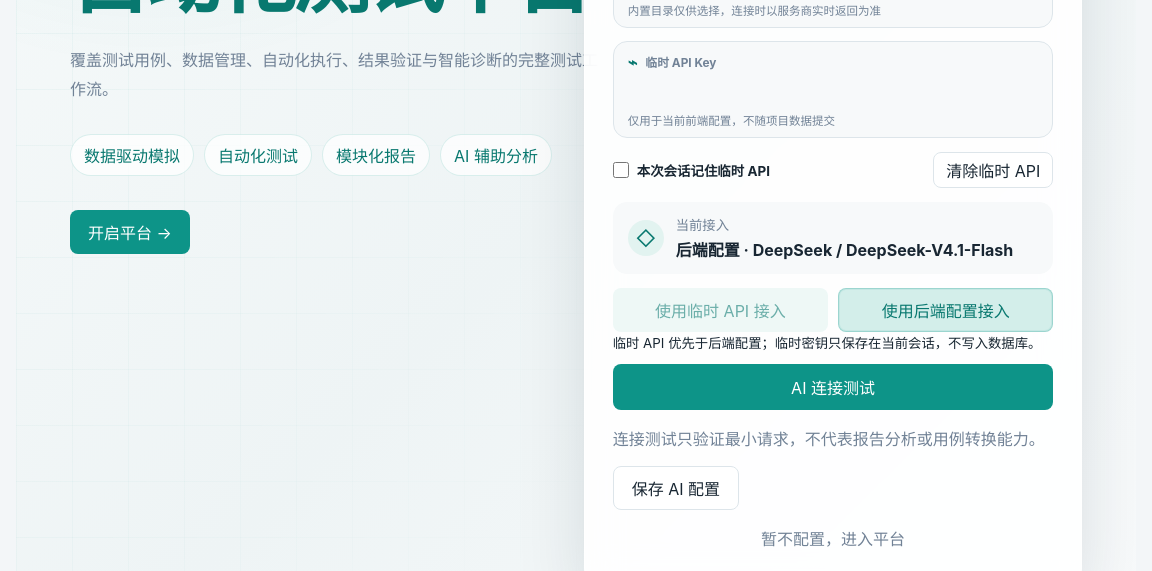
Scenario: 删除在线报告前展示影响，且不删除执行、人工记录或数据包
(page scrolled)
Click the button "开启平台 →".
click(130, 232)  # box [70, 210, 190, 254]
(page scrolled)
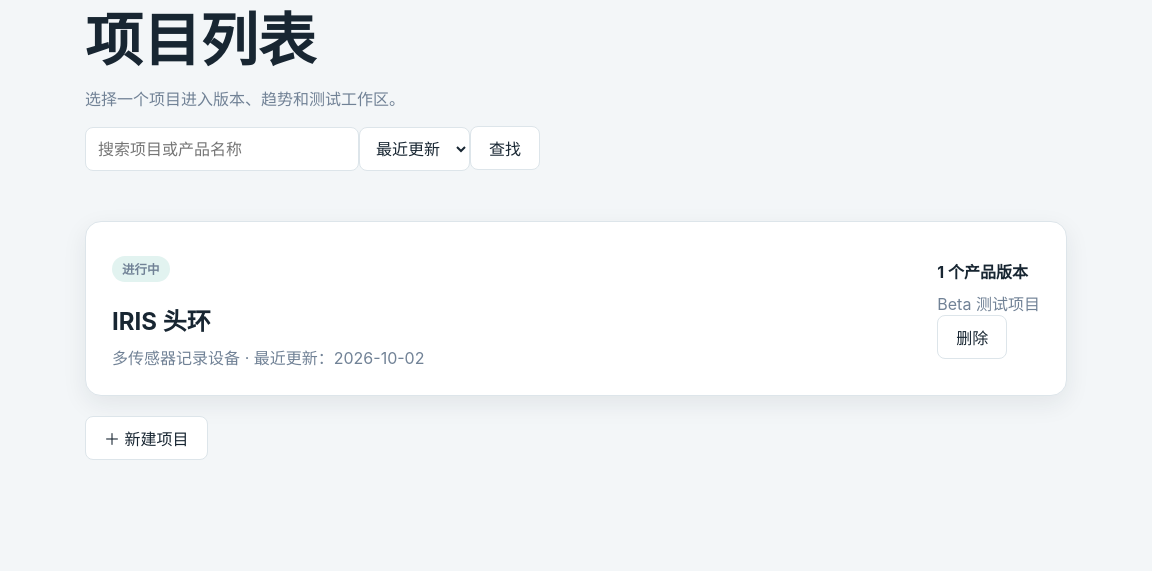
Click the button "进行中 IRIS 头环 多传感器记录设备 · 最近更新：2026-10-02 1 个产品版本 Beta 测试项目 删除".
click(576, 309)  # box [85, 221, 1067, 396]
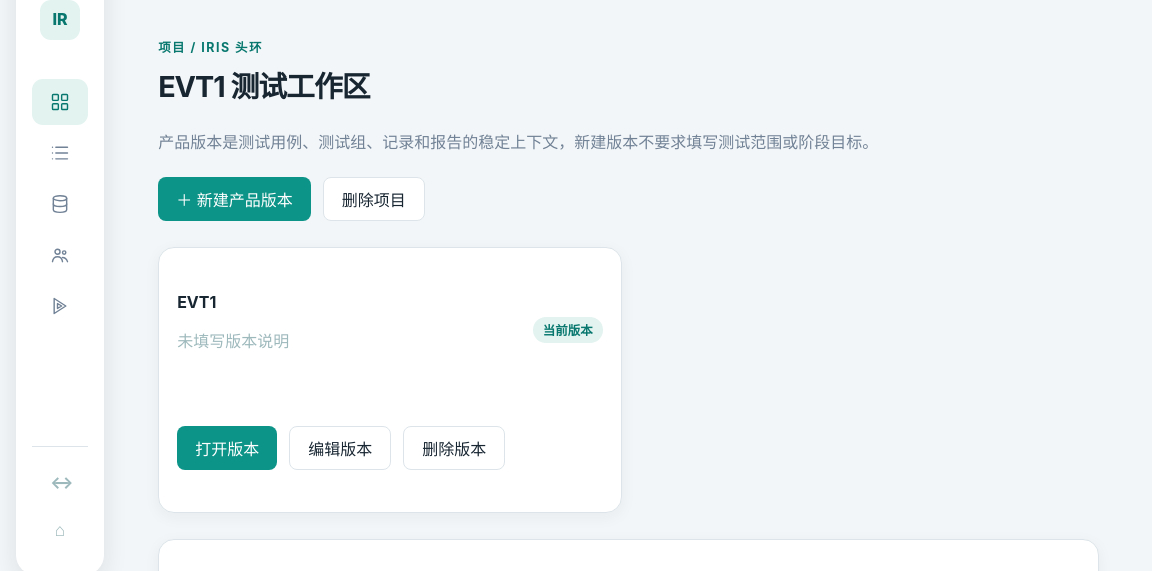
Click the button named "执行与结果".
click(60, 306)  # box [32, 283, 88, 329]
(page scrolled)
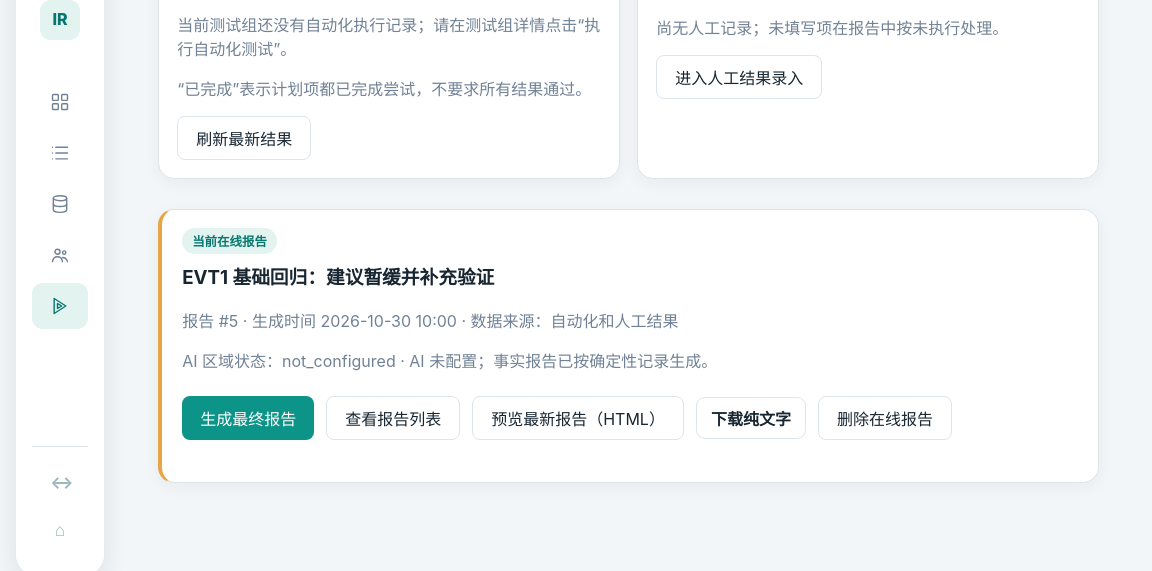
Result: the text "报告 #5 · 生成时间 2026-10-30 10:00 · 数据来源：自动化和人工结果" is shown at [182, 311, 679, 331]
Click the button "删除在线报告".
click(885, 418)  # box [818, 396, 952, 440]
(page scrolled)
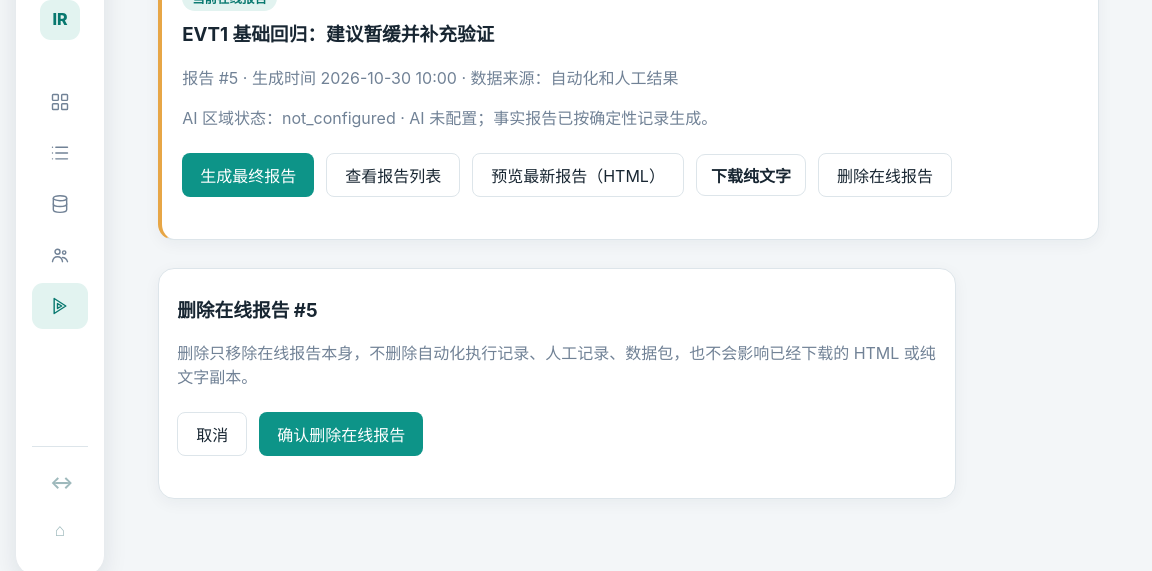
Result: the dialog named "删除在线报告影响" shows "不删除自动化执行记录、人工记录、数据包" at [177, 344, 936, 388]
Click the button "确认删除在线报告".
click(341, 434)  # box [259, 412, 423, 456]
(page scrolled)
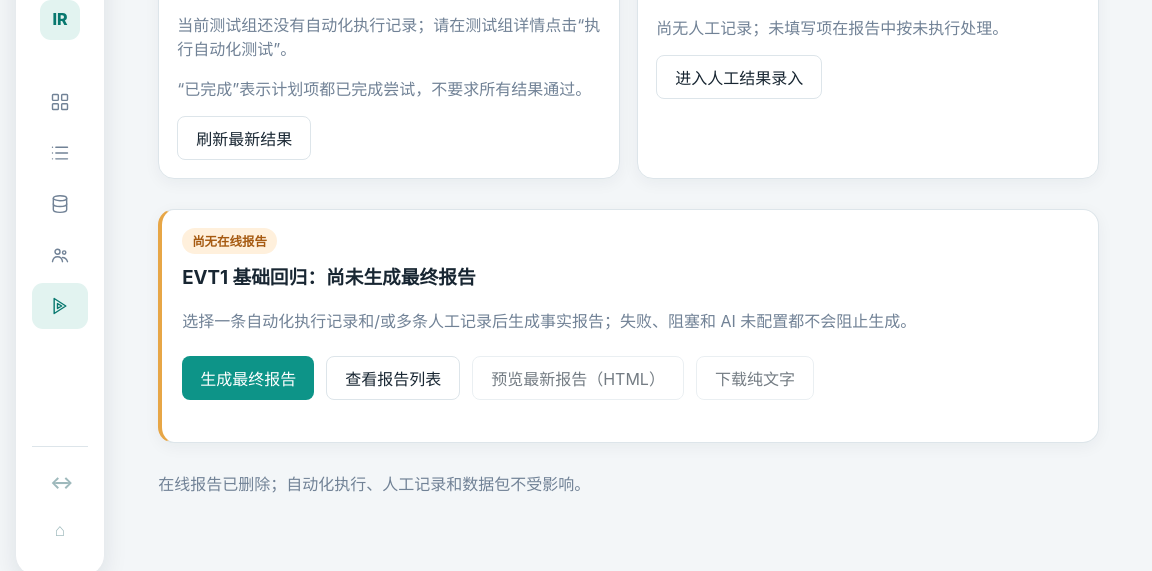
Result: the text "在线报告已删除；自动化执行、人工记录和数据包不受影响。" is shown at [158, 474, 590, 494]
Result: the text "尚无在线报告" is shown at [182, 228, 277, 254]
